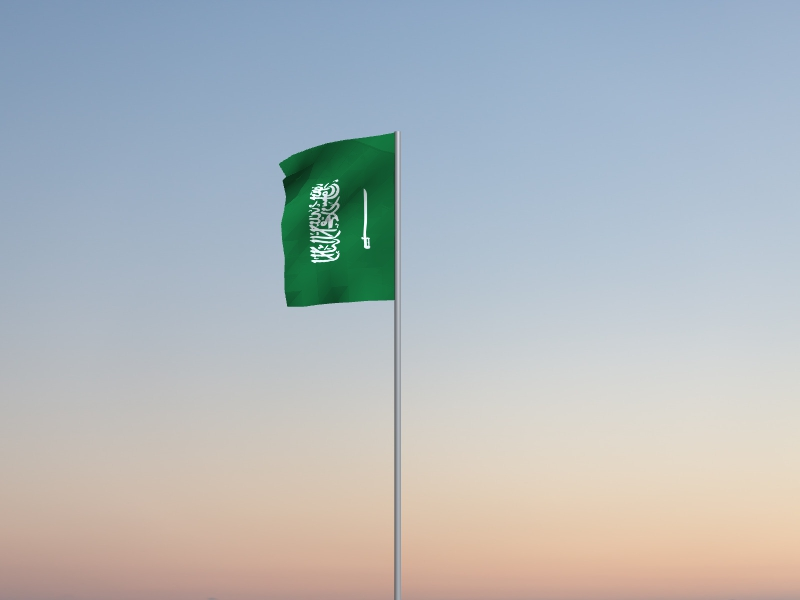sa: (278, 134, 395, 308)
